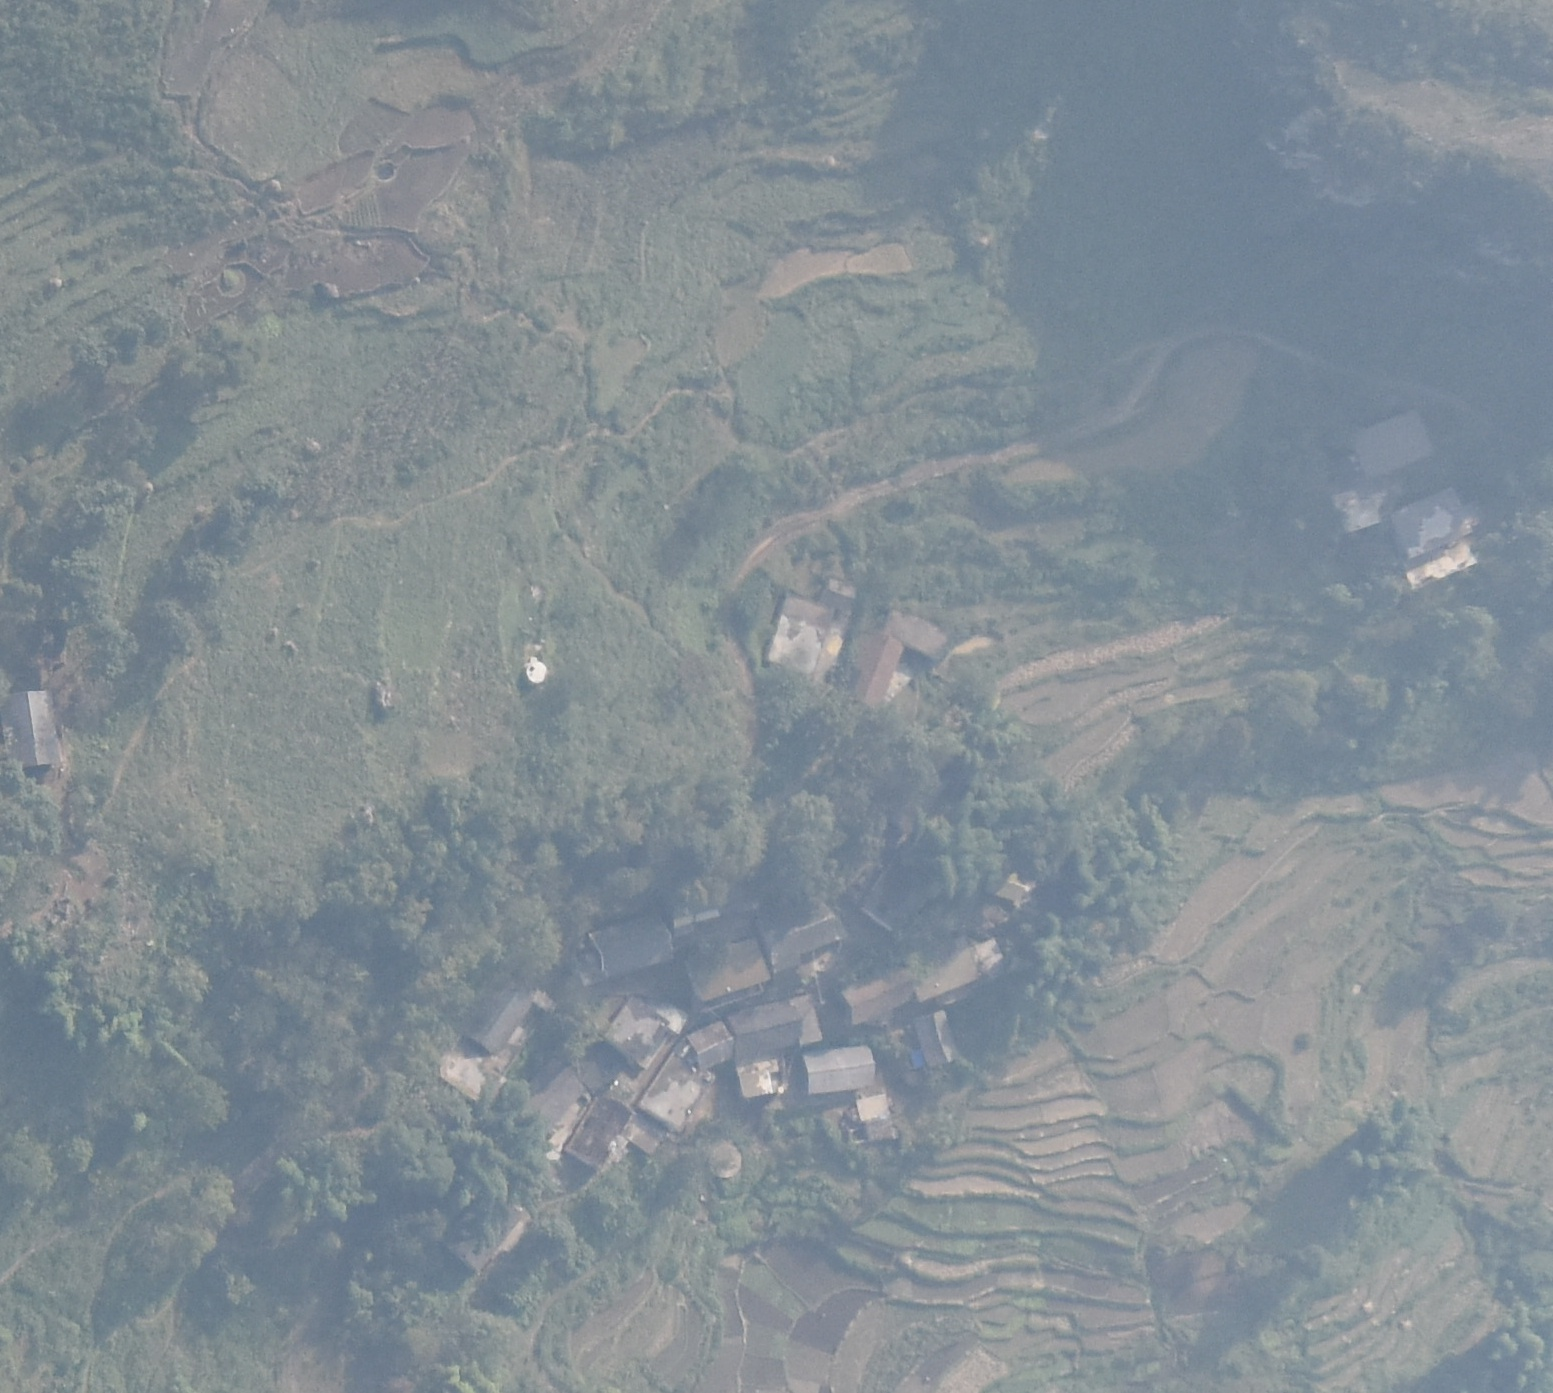building: (1393, 490, 1483, 585), (638, 1051, 719, 1131), (444, 1191, 519, 1273), (1347, 409, 1441, 474), (907, 937, 1001, 1000), (682, 944, 780, 1003), (767, 590, 832, 678), (761, 906, 849, 968), (565, 1097, 635, 1168), (583, 920, 678, 972), (609, 990, 672, 1068), (841, 965, 914, 1028), (8, 686, 58, 774), (469, 981, 531, 1051), (728, 1005, 805, 1057), (806, 1041, 877, 1094), (882, 604, 949, 656), (857, 630, 900, 707), (912, 1009, 965, 1065), (1329, 486, 1385, 534), (686, 1020, 729, 1070), (734, 1062, 781, 1095), (818, 576, 858, 612), (855, 1097, 898, 1127), (708, 1143, 741, 1178)
well: (524, 658, 549, 685)
